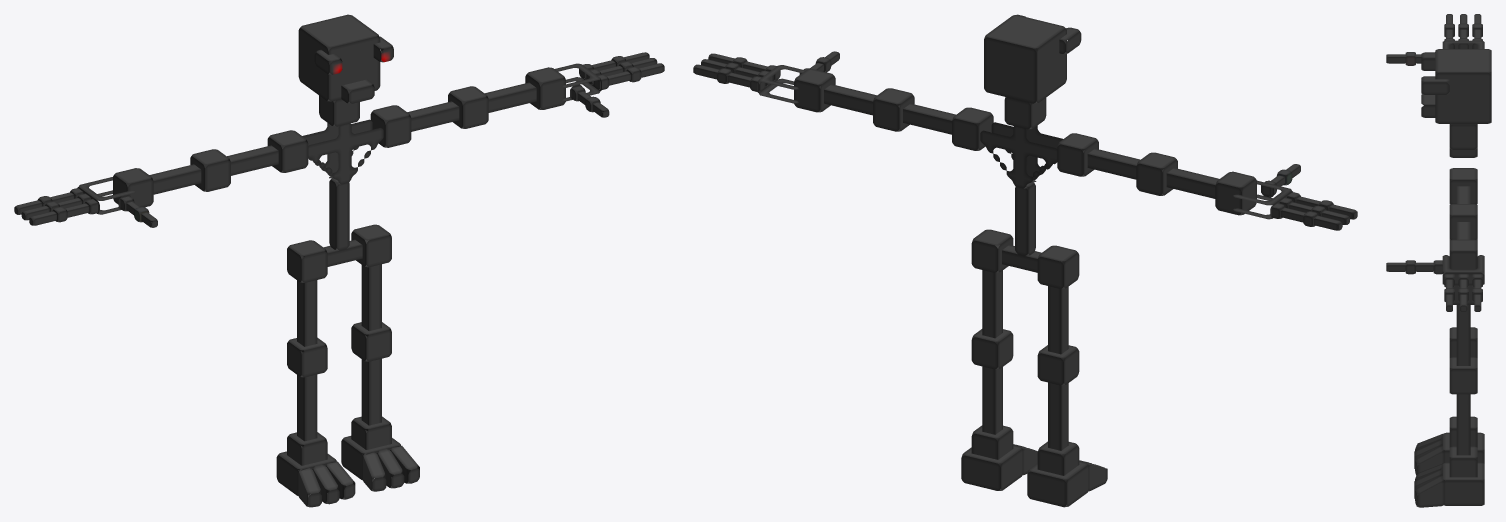
Rendered from fnaph_frendo.fbx.
3 views of the same model, side by side, from view 1: azimuth 30°, elevation 25°; view 2: azimuth 150°, elevation 25°; view 3: azimuth 270°, elevation 25° (orthographic). The views are drawn at different scales.
Parts seen in each view (by area): view 1: cube_59, cube_13, cube_5, cube_12, cube_2, cube_4, cube_8, cube_14, cube_10, cube_36, cube_3, cube_6 (+16 smaller); view 2: cube_59, cube_13, cube, cube_11, cube_5, cube_12, cube_40, cube_14, cube_3, cube_6, cube_10, cube_8 (+16 smaller); view 3: cube_59, cube_11, cube_6, cube_10, cube_18, cube_8, cube_14, cube_16, cube_9, cuboid_4, cube_58, cube_19 (+24 smaller).
Part boxes in pixels (x1,y1,x2,y2): cube_59: (298,14,380,101); cube_13: (302,119,383,184); cube_5: (287,240,327,282); cube_12: (329,178,349,250); cube_2: (297,374,317,446); cube_4: (297,280,317,352); cube_8: (361,264,381,336); cube_14: (370,105,411,147); cube_10: (361,358,381,430); cube_36: (267,130,308,172); cube_3: (287,337,327,377); cube_6: (351,322,391,361); cube_59: (984,15,1066,103); cube_13: (980,122,1062,188); cube: (1027,461,1088,507); cube_11: (961,445,1022,490); cube_5: (1037,245,1079,288); cube_12: (1015,181,1035,255); cube_40: (1215,171,1256,215); cube_14: (952,107,993,150); cube_3: (1037,345,1079,385); cube_6: (971,329,1013,369); cube_10: (982,366,1002,440); cube_8: (982,270,1002,343); cube_59: (1435,49,1491,123); cube_11: (1442,462,1484,505); cube_6: (1449,357,1477,394); cube_10: (1456,394,1470,455); cube_18: (1449,239,1477,269); cube_8: (1456,305,1470,365); cube_14: (1449,168,1477,204); cube_16: (1449,204,1477,240); cube_9: (1449,446,1477,477); cuboid_4: (1415,475,1444,507); cube_58: (1449,124,1477,149); cube_19: (1442,255,1484,285).
Bounding box in the file's own units: 306 × 206 × 46.88.
